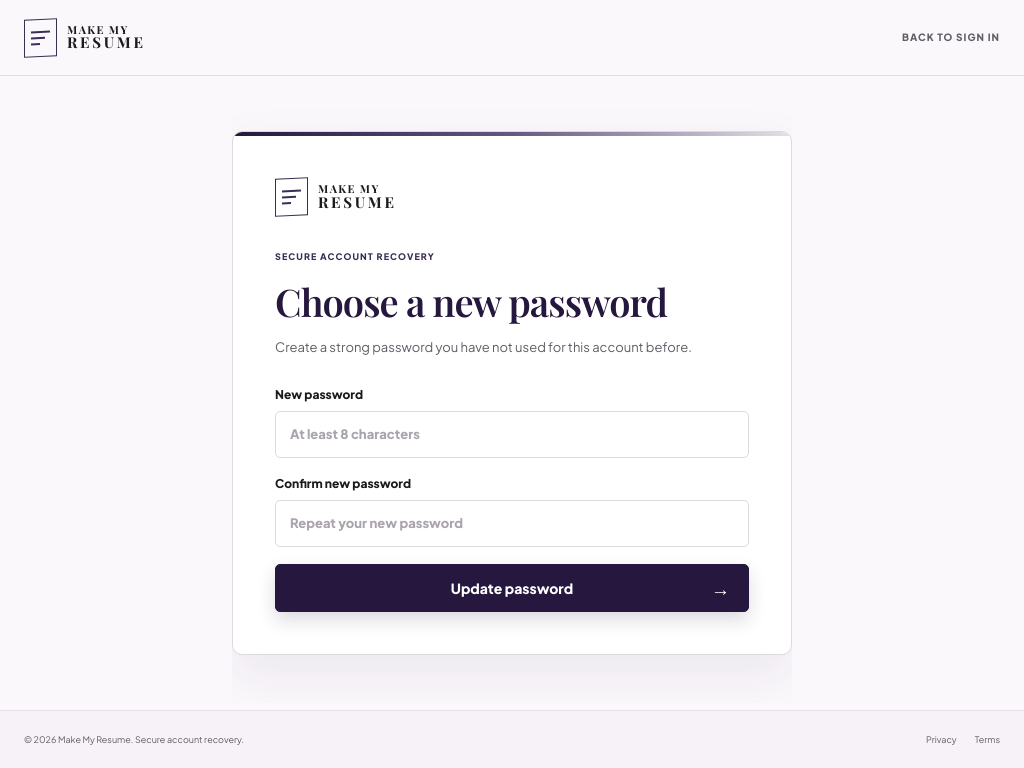
Test: PasswordRecoveryPage reset-token states › preserves the form after a retryable reset error
Type "new-password-123" into the password field labelled "New password".
click(512, 435); type("new-password-123")  # box [275,411,749,458]
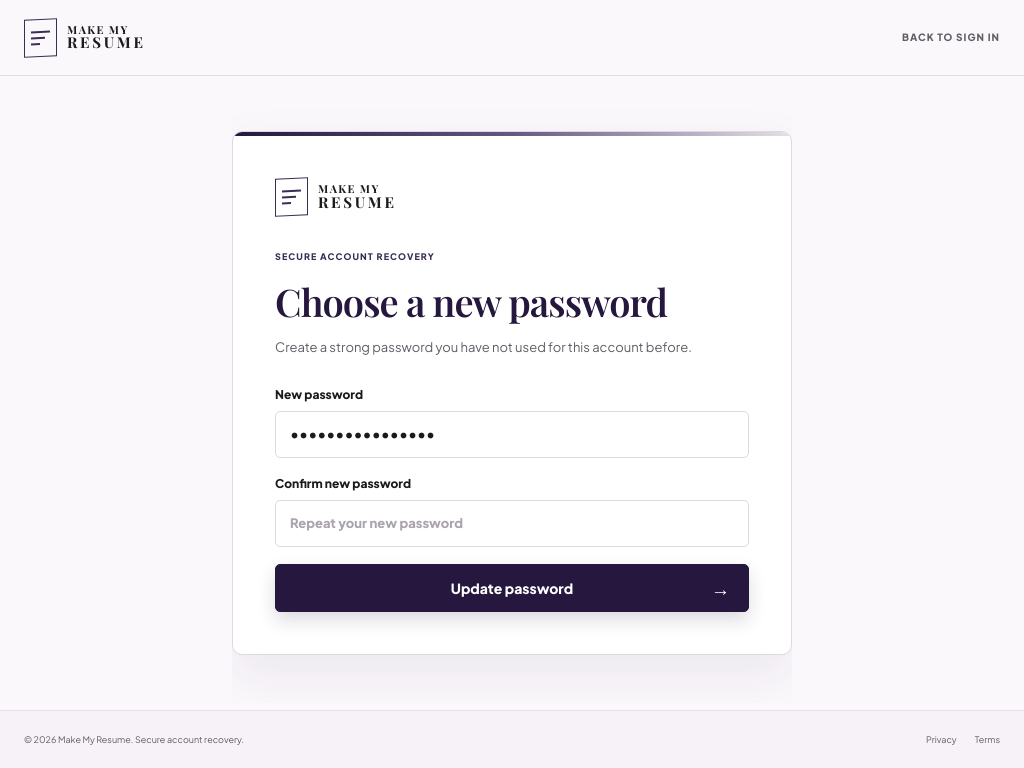
Type "new-password-123" into the password field labelled "Confirm new password".
click(512, 524); type("new-password-123")  # box [275,500,749,547]
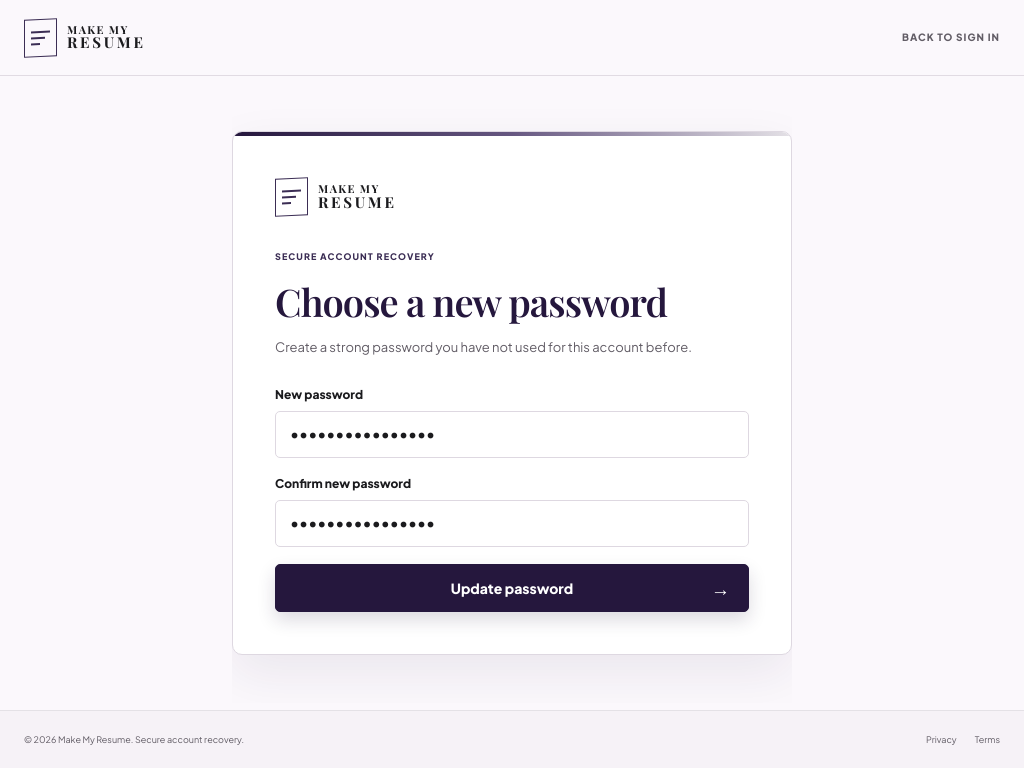
Click the button "Update password →".
click(512, 588)  # box [275,564,749,612]
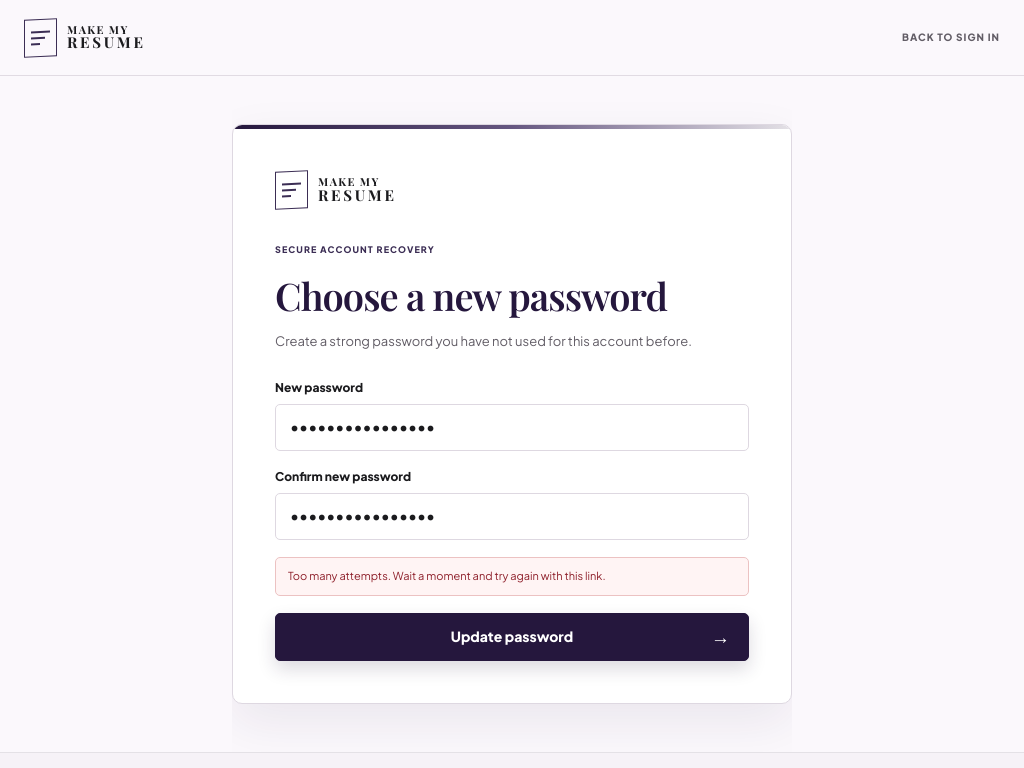
Now the text "Too many attempts. Wait a moment and try again with this link." is shown, box [275,557,749,596]
